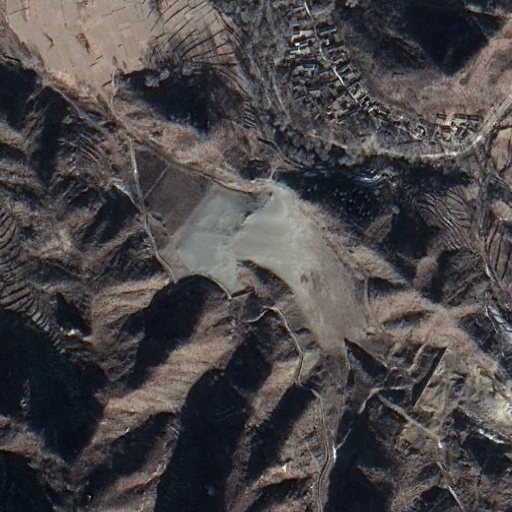tp: (133, 148, 379, 366)
